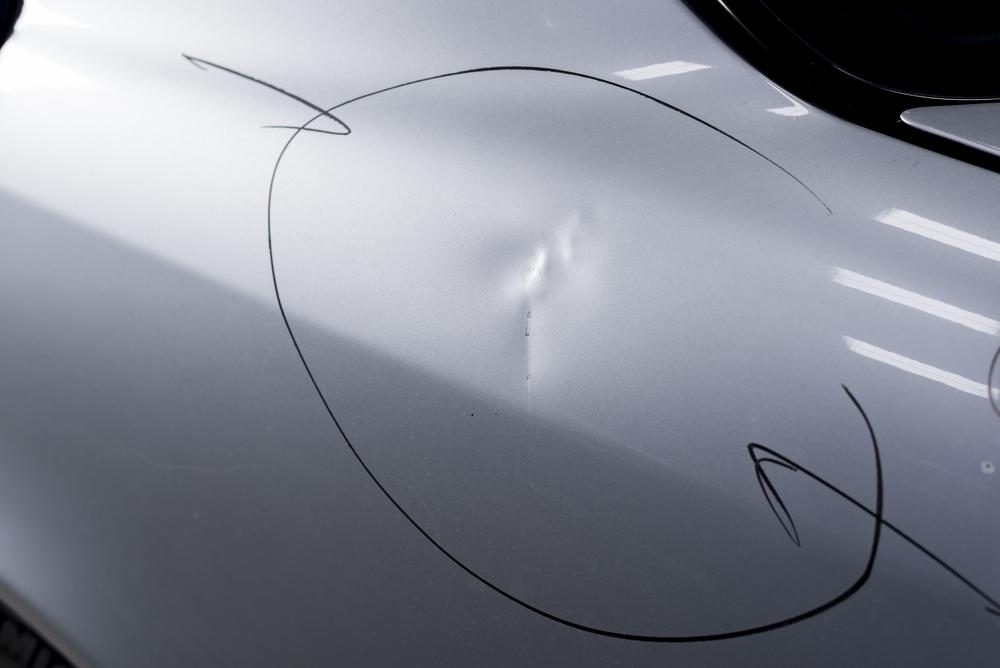dent: (473, 196, 612, 413)
